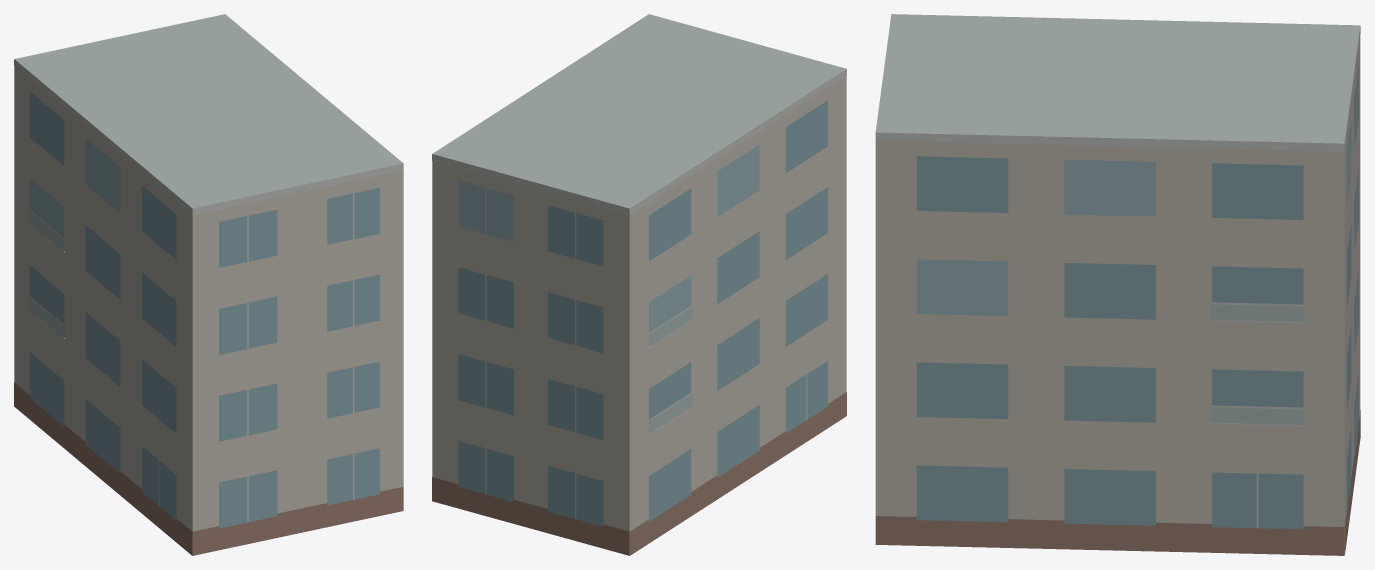
The model's file is residential-788b5305-e05e-49c4-9356-e1693959e178.glb.
3 renders of one model, left to right at view 1: azimuth 30°, elevation 25°; view 2: azimuth 150°, elevation 25°; view 3: azimuth 270°, elevation 25°, orthographic. The views are drawn at different scales.
Visible parts, largest first — view 1: residential-788b5305-e05e-49c4-9356-e1693959e178.tmp; view 2: residential-788b5305-e05e-49c4-9356-e1693959e178.tmp; view 3: residential-788b5305-e05e-49c4-9356-e1693959e178.tmp.
Boxes of the visible parts, left/top/right/bottom form: residential-788b5305-e05e-49c4-9356-e1693959e178.tmp: left=14, top=14, right=403, bottom=555; residential-788b5305-e05e-49c4-9356-e1693959e178.tmp: left=432, top=14, right=846, bottom=555; residential-788b5305-e05e-49c4-9356-e1693959e178.tmp: left=875, top=14, right=1360, bottom=555.
Size of the model in its own units: 8.23 by 12.2 by 13.01.
